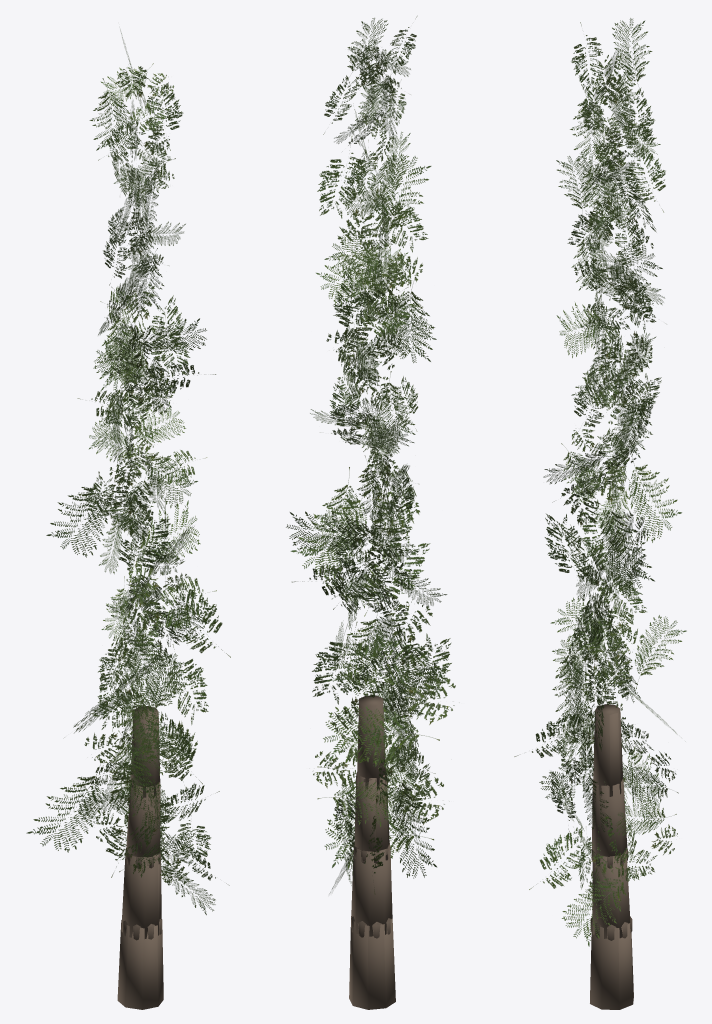
Rendered from cypress_1.glb.
3 renders of one model, left to right at view 1: azimuth 30°, elevation 25°; view 2: azimuth 150°, elevation 25°; view 3: azimuth 270°, elevation 25°, orthographic. The views are drawn at different scales.
Parts seen in each view (by area): view 1: cypress; view 2: cypress; view 3: cypress.
Part boxes in pixels (x1,y1,x2,y2): cypress: [26, 30, 230, 1009]; cypress: [286, 16, 455, 1009]; cypress: [514, 18, 686, 1009].
Size of the model in its own units: 2.02 by 10.18 by 1.81.
Materials: 2 (1 with a texture image).
